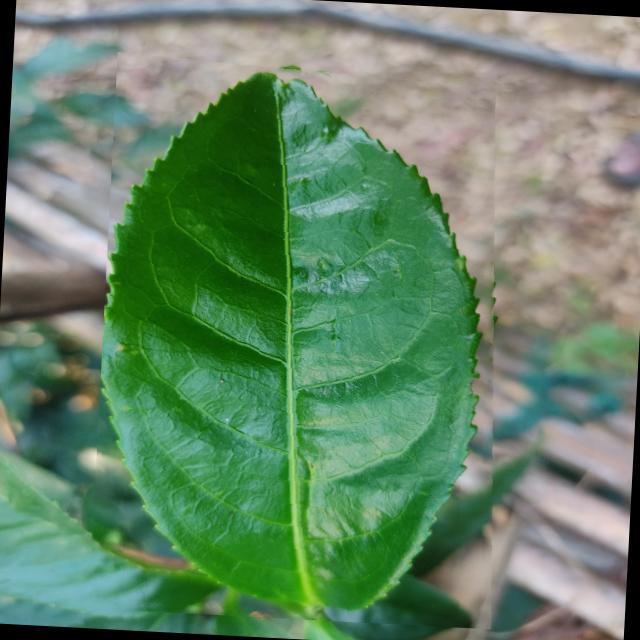Category D(7+ days, Not for Tea): (89, 50, 522, 628)
